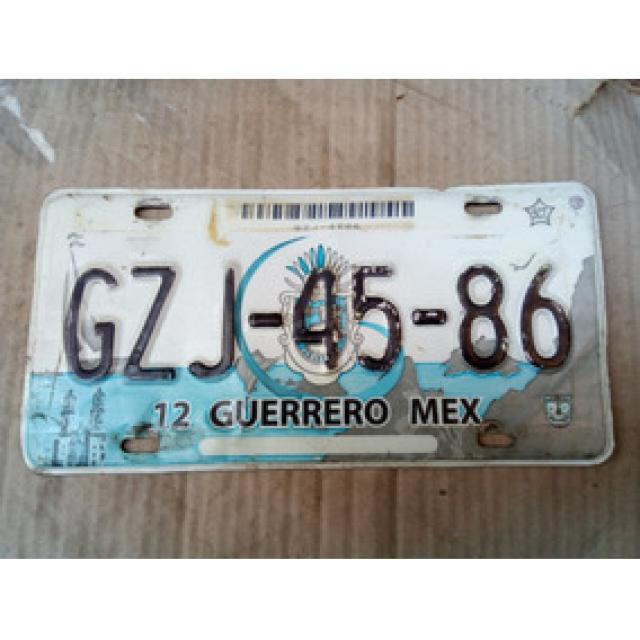placa: (32, 243, 610, 391)
